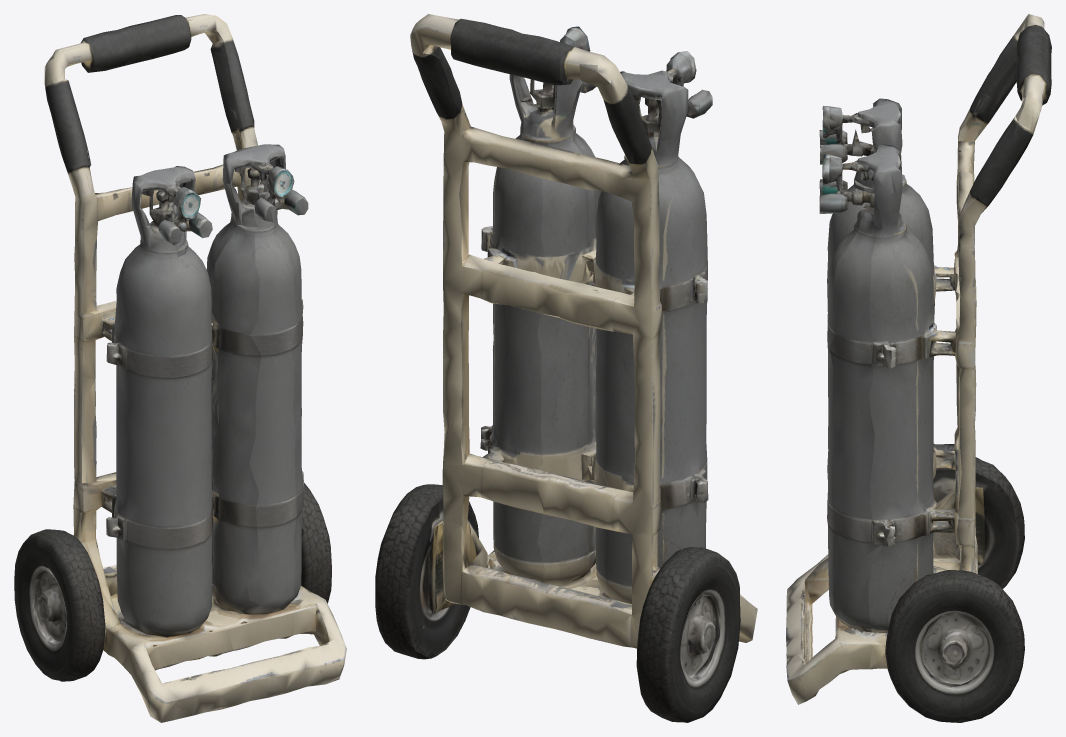
File: SD_CylinderTrolley.fbx
3 views of the same model, side by side, from view 1: azimuth 30°, elevation 25°; view 2: azimuth 150°, elevation 25°; view 3: azimuth 270°, elevation 25° (orthographic). The views are drawn at different scales.
Visible parts, largest first — view 1: SD_CylinderTrolley_LOD0; view 2: SD_CylinderTrolley_LOD0; view 3: SD_CylinderTrolley_LOD0.
Part boxes in pixels (x1,y1,x2,y2): SD_CylinderTrolley_LOD0: [14, 14, 346, 722]; SD_CylinderTrolley_LOD0: [375, 14, 757, 722]; SD_CylinderTrolley_LOD0: [786, 14, 1051, 722].
Size of what is drawn, in the model's own units: 65 by 140 by 55.
